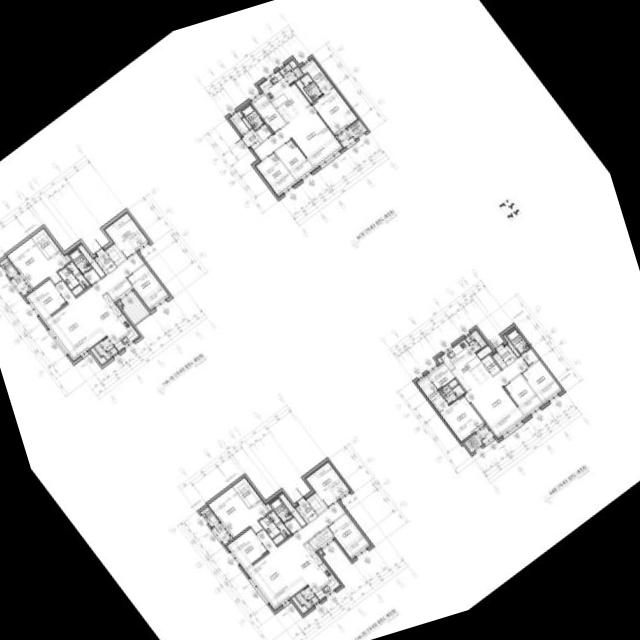background: (0, 0, 640, 640)
space_balconi: (121, 292, 149, 324), (295, 585, 319, 608), (94, 336, 118, 359), (279, 63, 303, 84), (465, 330, 487, 352), (11, 273, 30, 295), (212, 523, 231, 544), (337, 129, 355, 147), (476, 426, 494, 443)
space_bedroom: (208, 486, 270, 537), (7, 237, 69, 288), (305, 460, 350, 507), (312, 87, 357, 134), (104, 211, 149, 258), (440, 395, 485, 441), (328, 512, 370, 558), (127, 263, 169, 309), (521, 359, 562, 403), (256, 152, 296, 195), (227, 528, 267, 569), (26, 279, 66, 320), (504, 374, 543, 416), (275, 139, 314, 181)
space_dressroom: (417, 375, 448, 412), (31, 228, 60, 258), (233, 477, 260, 507), (300, 59, 325, 82)
space_front: (94, 250, 117, 273), (296, 498, 318, 522), (497, 344, 517, 365), (243, 128, 262, 149)
space_kitchen: (288, 541, 340, 599), (87, 292, 139, 350), (441, 339, 493, 391), (259, 71, 310, 123)
space_living_room: (44, 252, 145, 360), (246, 501, 346, 609), (254, 105, 342, 167), (465, 355, 529, 437)
space_other: (251, 92, 286, 132), (279, 493, 306, 526), (78, 244, 105, 277), (427, 362, 455, 389), (107, 277, 133, 301), (308, 527, 334, 550), (229, 110, 249, 134), (306, 492, 326, 514), (105, 243, 125, 265), (481, 354, 500, 375), (296, 79, 313, 102), (503, 334, 520, 356), (521, 348, 539, 365), (90, 347, 107, 365), (316, 76, 333, 93), (83, 268, 100, 285), (285, 517, 301, 534), (291, 596, 307, 612), (256, 124, 272, 140), (492, 352, 506, 368), (477, 345, 492, 359), (242, 117, 252, 128), (448, 378, 458, 387), (289, 60, 297, 68), (266, 502, 272, 510), (65, 254, 71, 261), (437, 357, 442, 362), (319, 550, 323, 554), (118, 301, 122, 305)
space_outdoor_room: (200, 506, 219, 526), (464, 433, 483, 452), (348, 119, 367, 138), (0, 257, 18, 277)
space_toilet: (259, 510, 290, 544), (58, 261, 89, 295), (269, 497, 293, 523), (506, 328, 530, 354), (300, 73, 323, 100), (68, 248, 91, 273), (241, 104, 264, 129), (439, 384, 465, 403)
